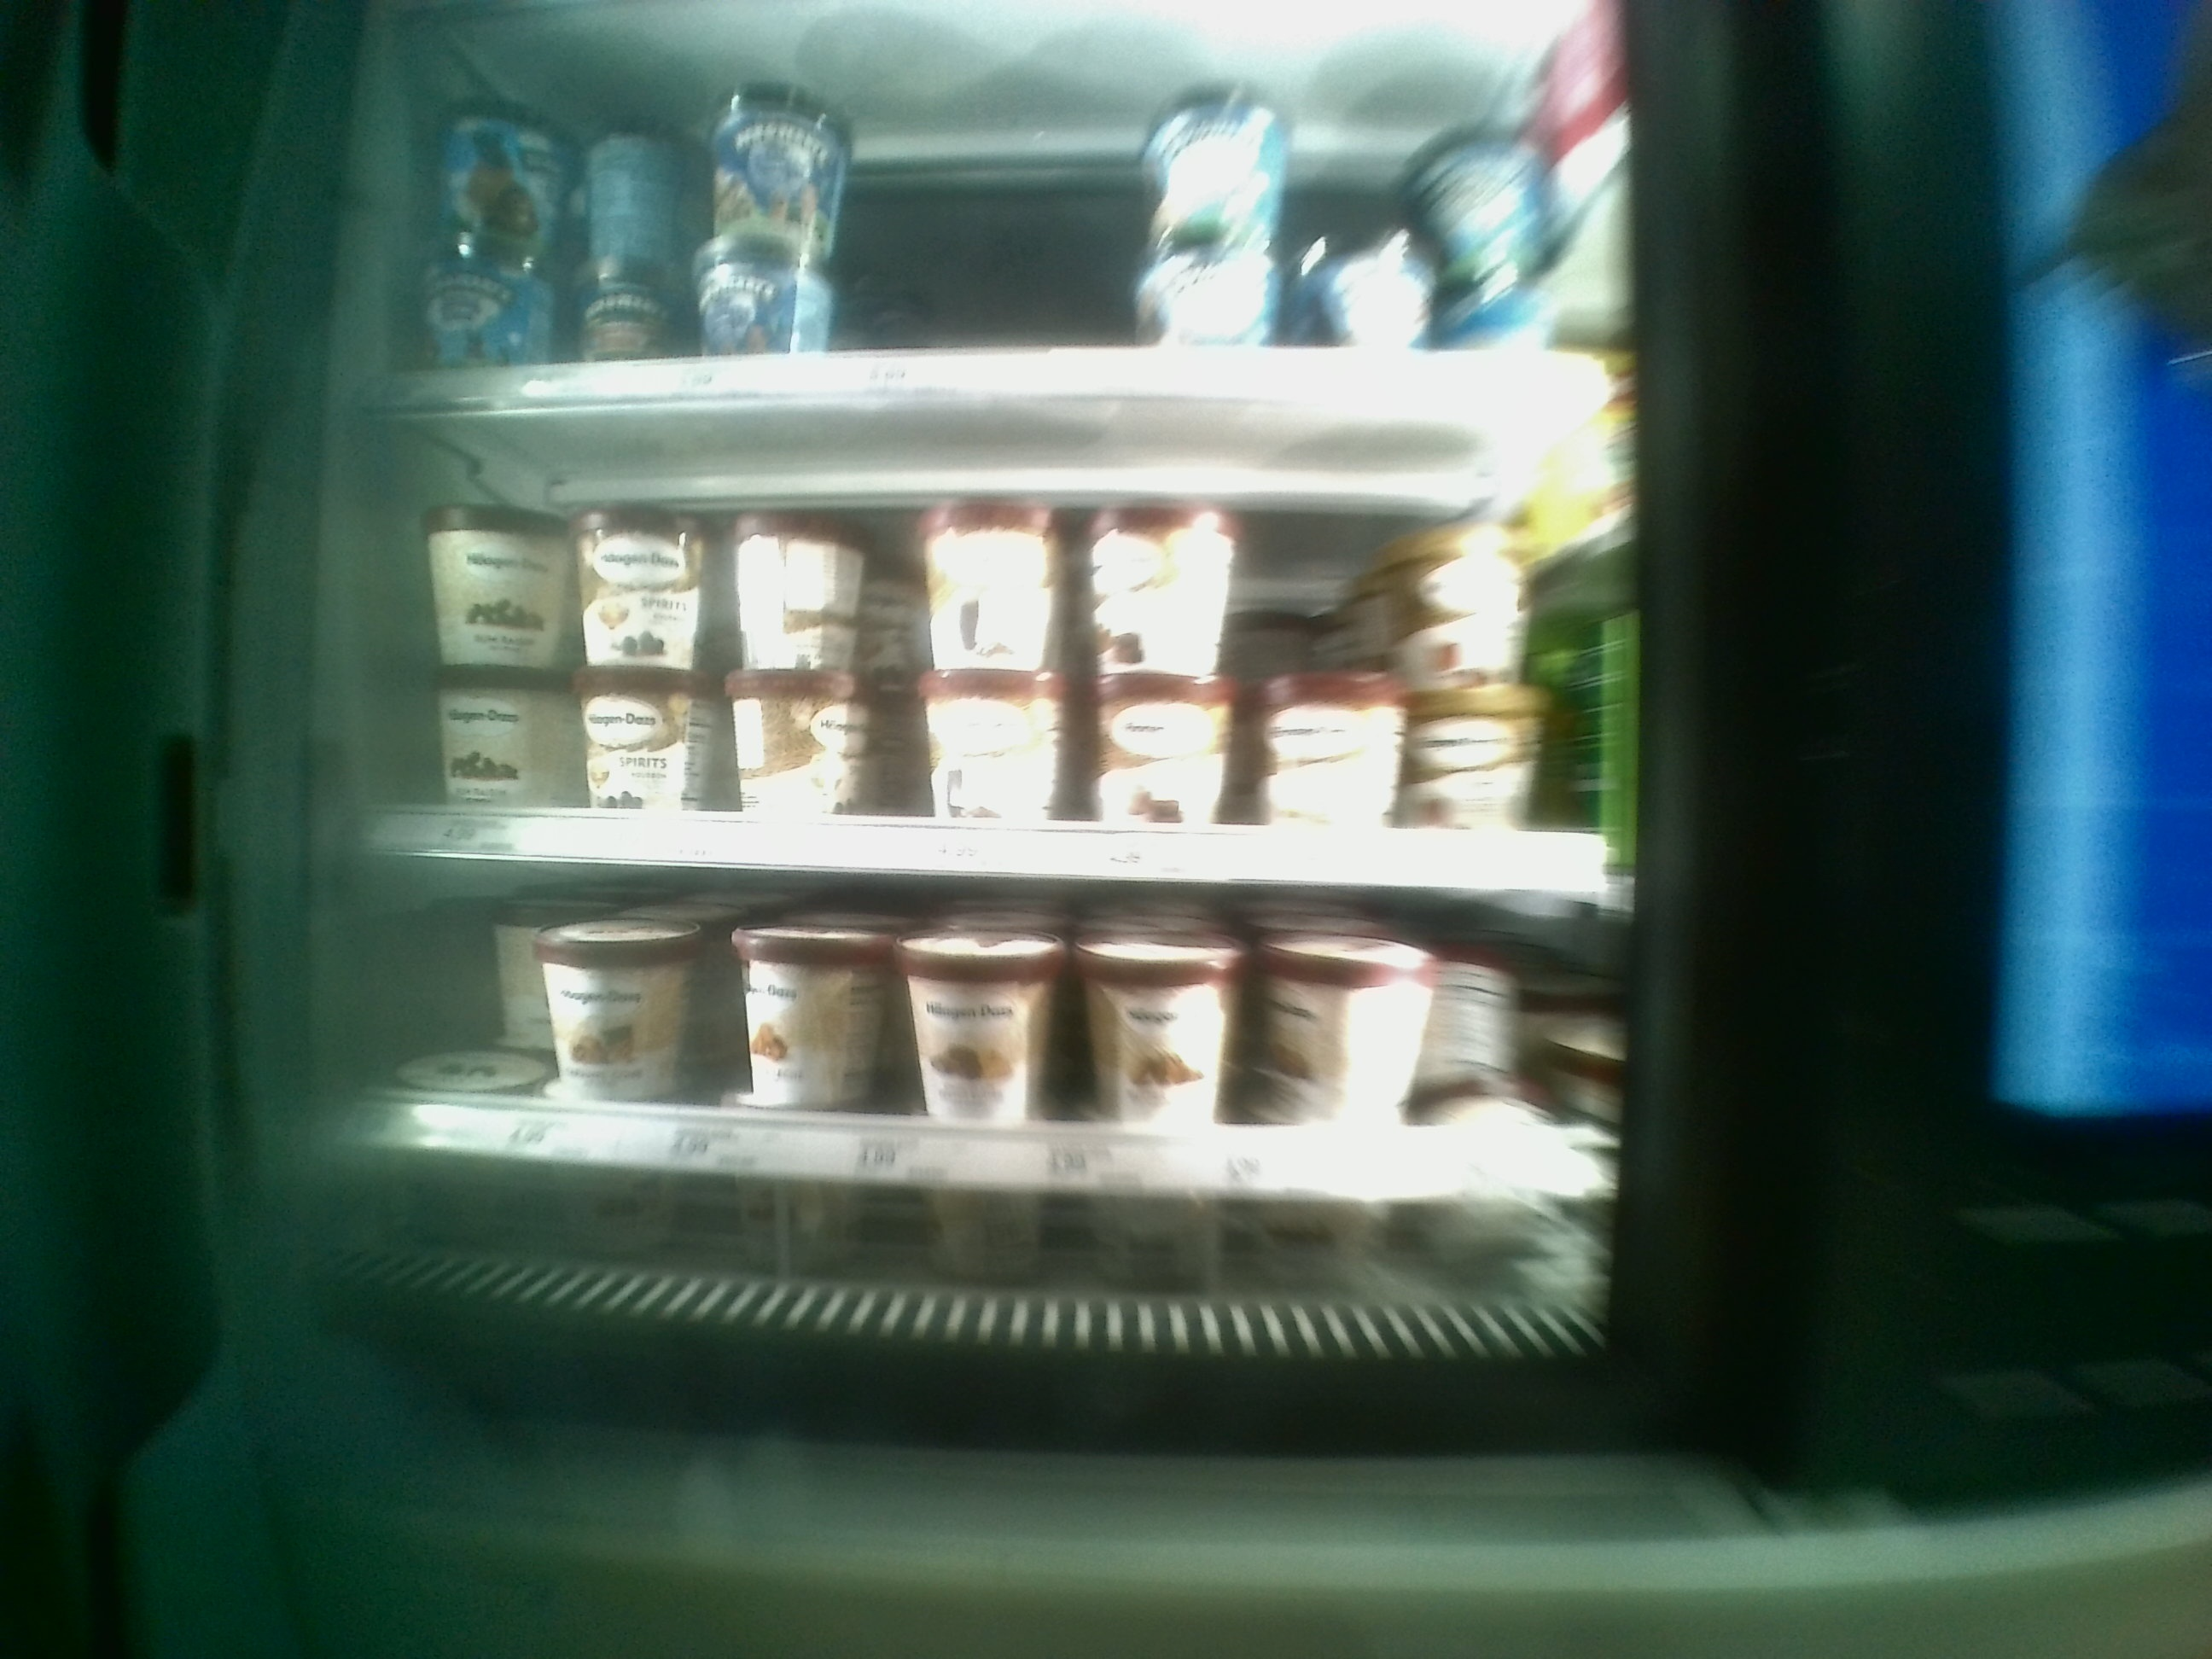shelf: (359, 401, 1623, 897), (364, 859, 1615, 1331)
